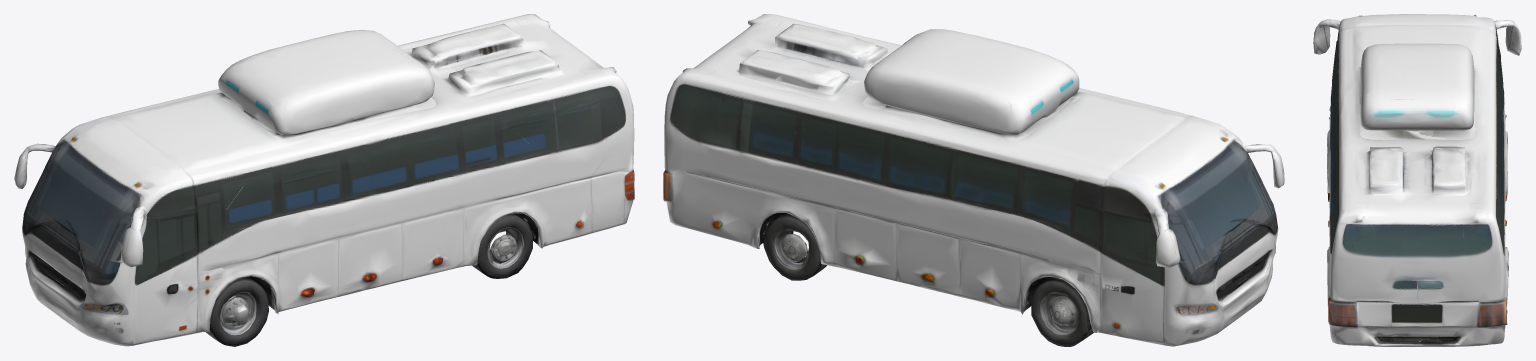
File: Luxurious_Tour_Bus_0330183705_texture.glb
3 renders of one model, left to right at view 1: azimuth 30°, elevation 25°; view 2: azimuth 150°, elevation 25°; view 3: azimuth 270°, elevation 25°, orthographic. The views are drawn at different scales.
Size of the model in its own units: 1.98 by 0.7722 by 0.7543.
Materials: 1 (1 with a texture image).
